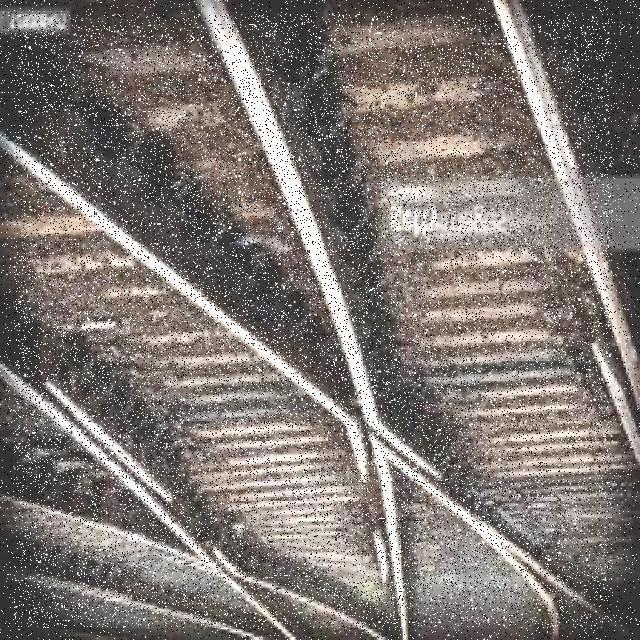rail: (15, 15, 613, 629)
